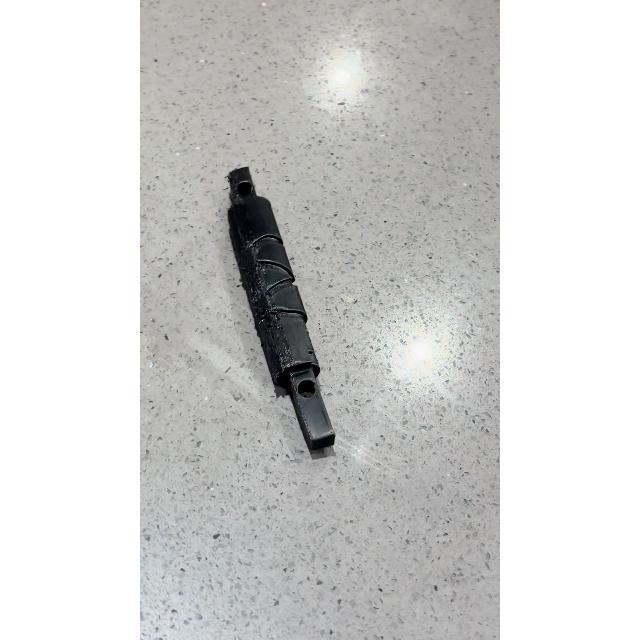Pieza1: (212, 159, 368, 465)
